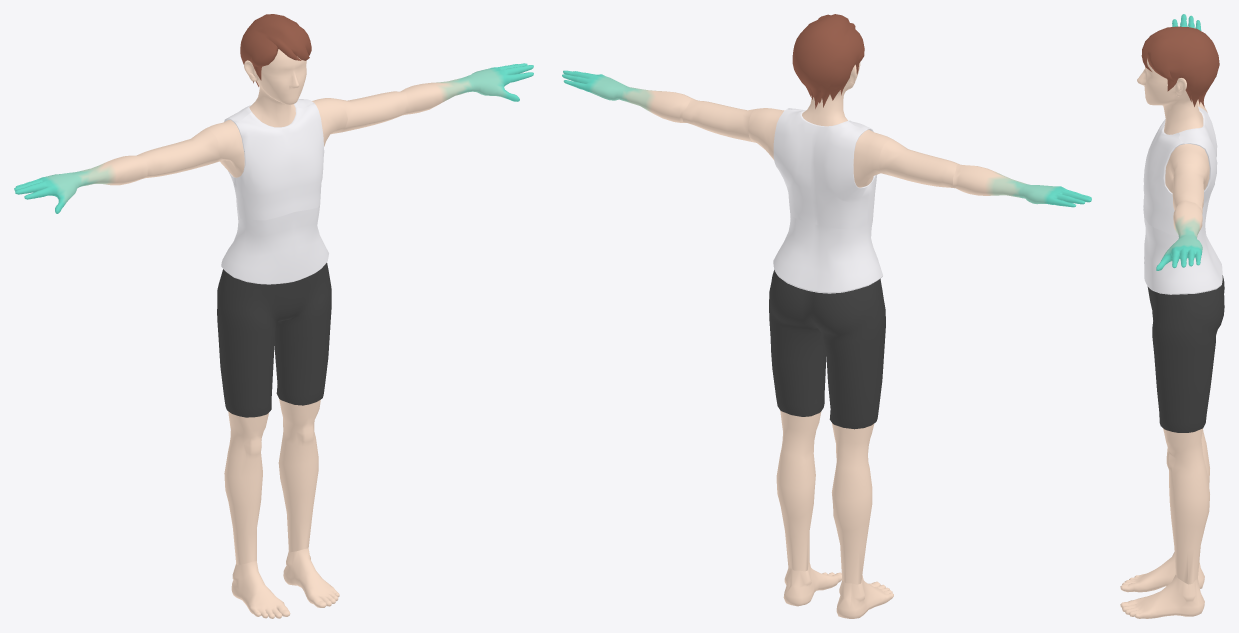
3 renders of one model, left to right at view 1: azimuth 30°, elevation 25°; view 2: azimuth 150°, elevation 25°; view 3: azimuth 270°, elevation 25°, orthographic. The views are drawn at different scales.
Visible parts, largest first — view 1: Hair__Body_M.001, Hair__Body_M.002, BustUp__Body_M.007, BustUp__Body_M.010, BustUp__Body_M.008, Hair__Body_M.003, BustUp__Body_M.006, BustUp__Body_M.003, BustUp__Body_M.005, BustUp__Body_M.002, BustUp__Body_M.004, BustUp__Body_M.001; view 2: Hair__Body_M.001, Hair__Body_M.002, BustUp__Body_M.009, BustUp__Body_M.010, BustUp__Body_M.008, Hair__Body_M.003, BustUp__Body_M.006, BustUp__Body_M.003, BustUp__Body_M.005, BustUp__Body_M.002, BustUp__Body_M.004, BustUp__Body_M.001; view 3: Hair__Body_M.001, BustUp__Body_M.008, Hair__Body_M.002, BustUp__Body_M.010, Hair__Body_M.003, BustUp__Body_M.007, BustUp__Body_M.003, BustUp__Body_M.009, BustUp__Body_M.002, BustUp__Body_M.001, BustUp__Body_M.006.
Part boxes in pixels (box(x1,y1,x2,y2)): Hair__Body_M.001: box(217, 263, 331, 417); Hair__Body_M.002: box(224, 399, 320, 564); BustUp__Body_M.007: box(233, 103, 324, 220); BustUp__Body_M.010: box(221, 205, 328, 284); BustUp__Body_M.008: box(240, 14, 311, 127); Hair__Body_M.003: box(231, 548, 339, 618); BustUp__Body_M.006: box(14, 155, 147, 213); BustUp__Body_M.003: box(400, 63, 533, 114); BustUp__Body_M.005: box(137, 128, 219, 178); BustUp__Body_M.002: box(338, 91, 408, 131); BustUp__Body_M.004: box(206, 120, 244, 177); BustUp__Body_M.001: box(312, 98, 347, 146); Hair__Body_M.001: box(769, 270, 885, 429); Hair__Body_M.002: box(776, 411, 874, 584); BustUp__Body_M.009: box(773, 109, 868, 229); BustUp__Body_M.010: box(773, 212, 882, 293); BustUp__Body_M.008: box(792, 14, 864, 126); Hair__Body_M.003: box(783, 561, 893, 618); BustUp__Body_M.006: box(953, 164, 1091, 207); BustUp__Body_M.003: box(562, 70, 695, 122); BustUp__Body_M.005: box(879, 139, 961, 188); BustUp__Body_M.002: box(682, 99, 755, 141); BustUp__Body_M.004: box(853, 129, 892, 187); BustUp__Body_M.001: box(748, 108, 784, 160); Hair__Body_M.001: box(1147, 275, 1224, 432); BustUp__Body_M.008: box(1137, 26, 1219, 134); Hair__Body_M.002: box(1163, 428, 1209, 584); BustUp__Body_M.010: box(1144, 215, 1222, 294); Hair__Body_M.003: box(1120, 552, 1204, 618); BustUp__Body_M.007: box(1143, 119, 1184, 236); BustUp__Body_M.003: box(1156, 200, 1202, 270); BustUp__Body_M.009: box(1178, 106, 1217, 232); BustUp__Body_M.002: box(1172, 164, 1204, 210); BustUp__Body_M.001: box(1165, 144, 1209, 193); BustUp__Body_M.006: box(1172, 14, 1201, 30).
Size of the model in its own units: 0.3589 by 0.3802 by 0.0628.
Materials: 2 (2 with a texture image).
